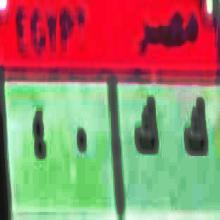0: (71, 119, 96, 163)
4: (28, 103, 49, 166)
kaaf: (180, 94, 208, 166), (133, 96, 159, 164)
